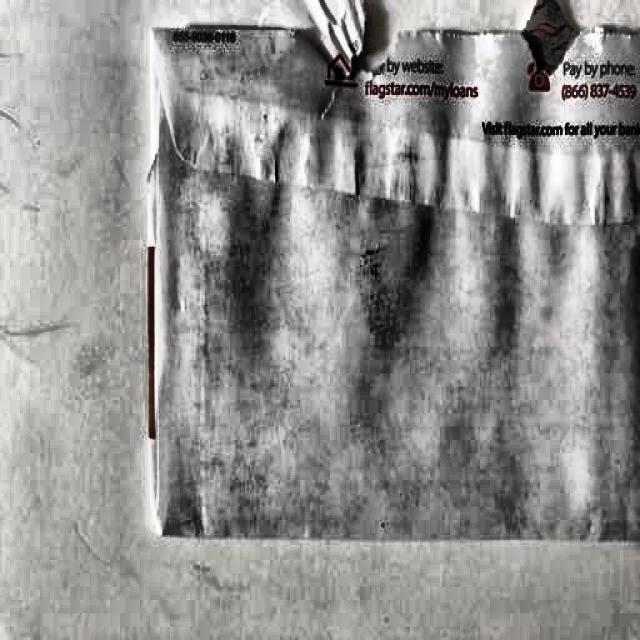paper: (140, 8, 640, 551)
